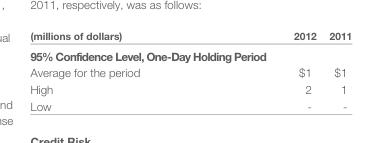table: (29, 29, 351, 112)
table column: (29, 29, 216, 112), (216, 29, 322, 112), (322, 29, 351, 112)
table column header: (29, 29, 351, 45)
table projected row header: (29, 45, 351, 63)
table row: (29, 45, 351, 63), (29, 63, 351, 80), (29, 29, 351, 45), (29, 80, 351, 96), (29, 96, 351, 112)
